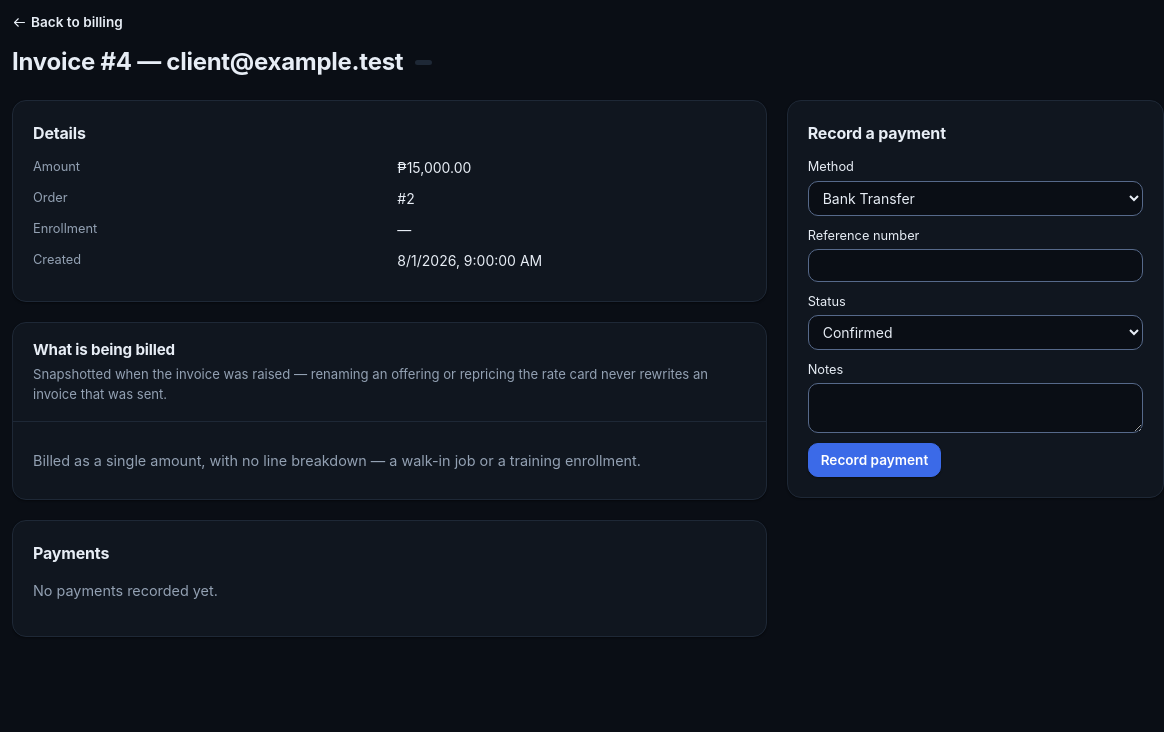
it: recording a payment › surfaces the server's rejection
Click the button "Record payment" at (874, 460), box [808,443,941,477]
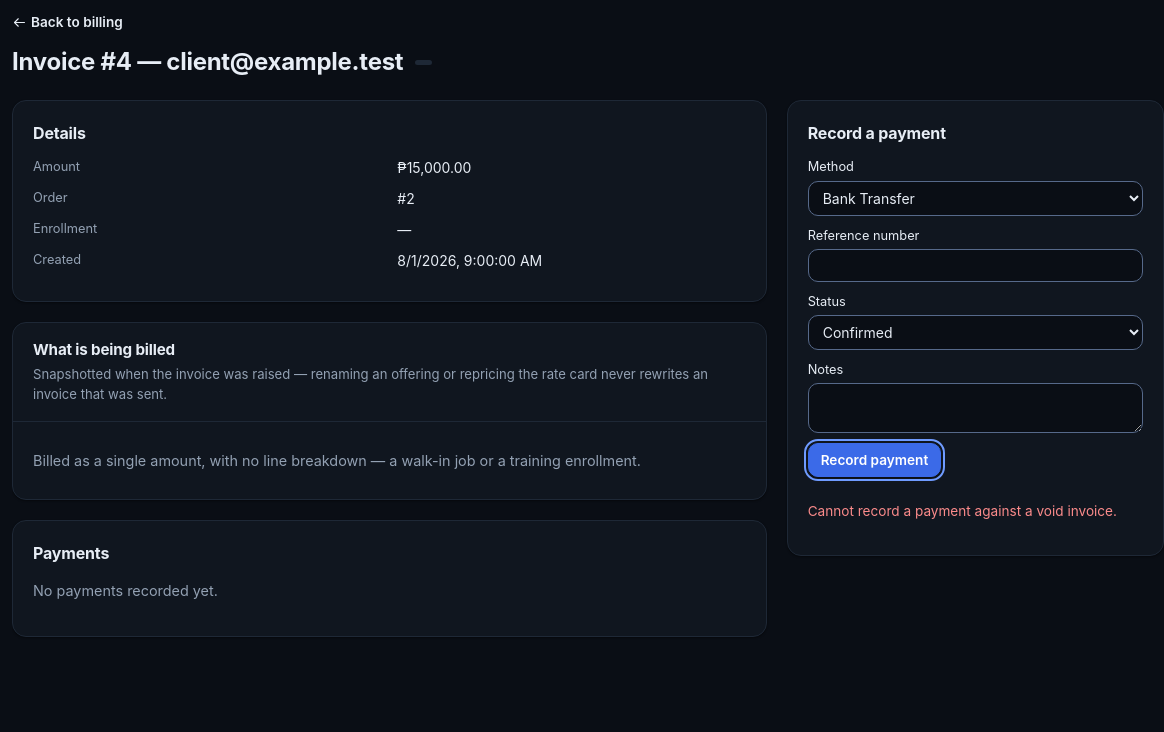
expect the text "Cannot record a payment against a void invoice." is shown: met, box [808,501,1143,521]
